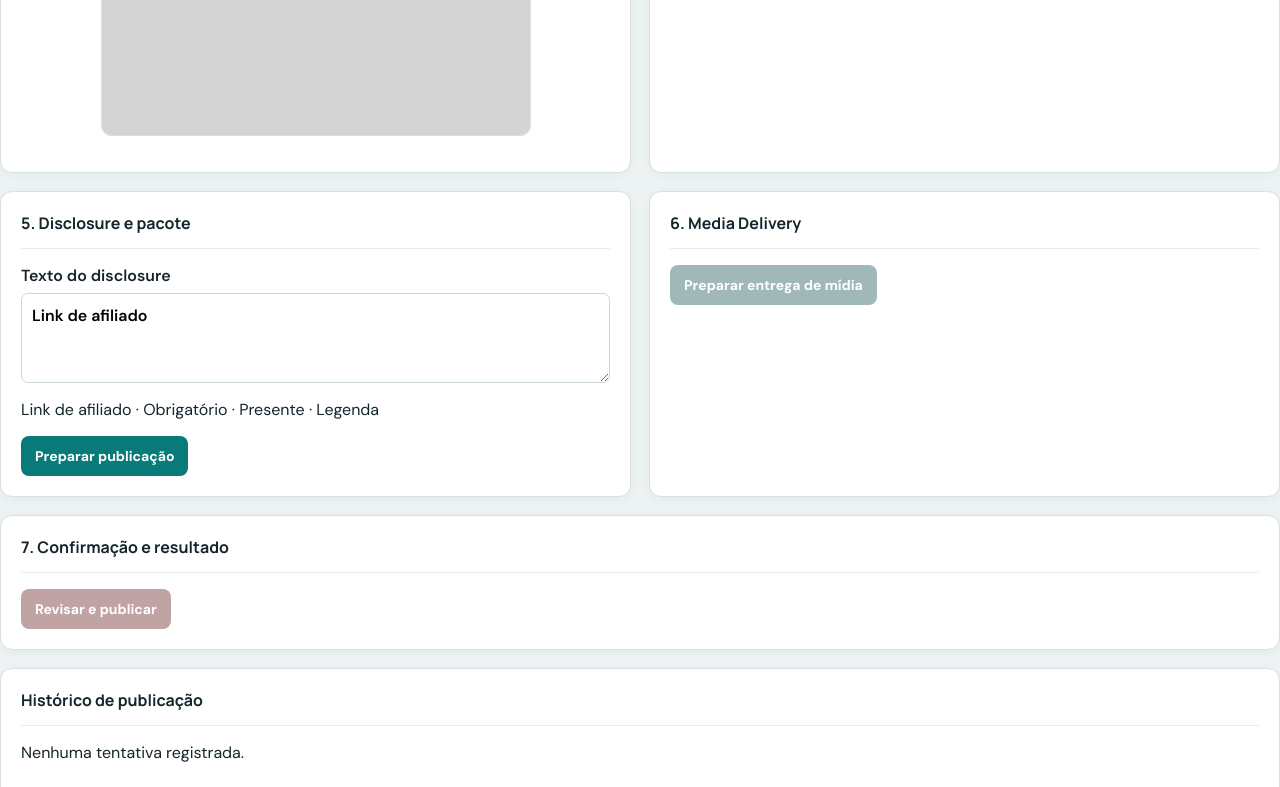
Test: delivery expirado bloqueia confirmação e não exibe URL assinada como texto
(page scrolled)
Step 1. Click the button "Preparar publicação" → (105, 456), box 21,436 -> 188,476
(page scrolled)
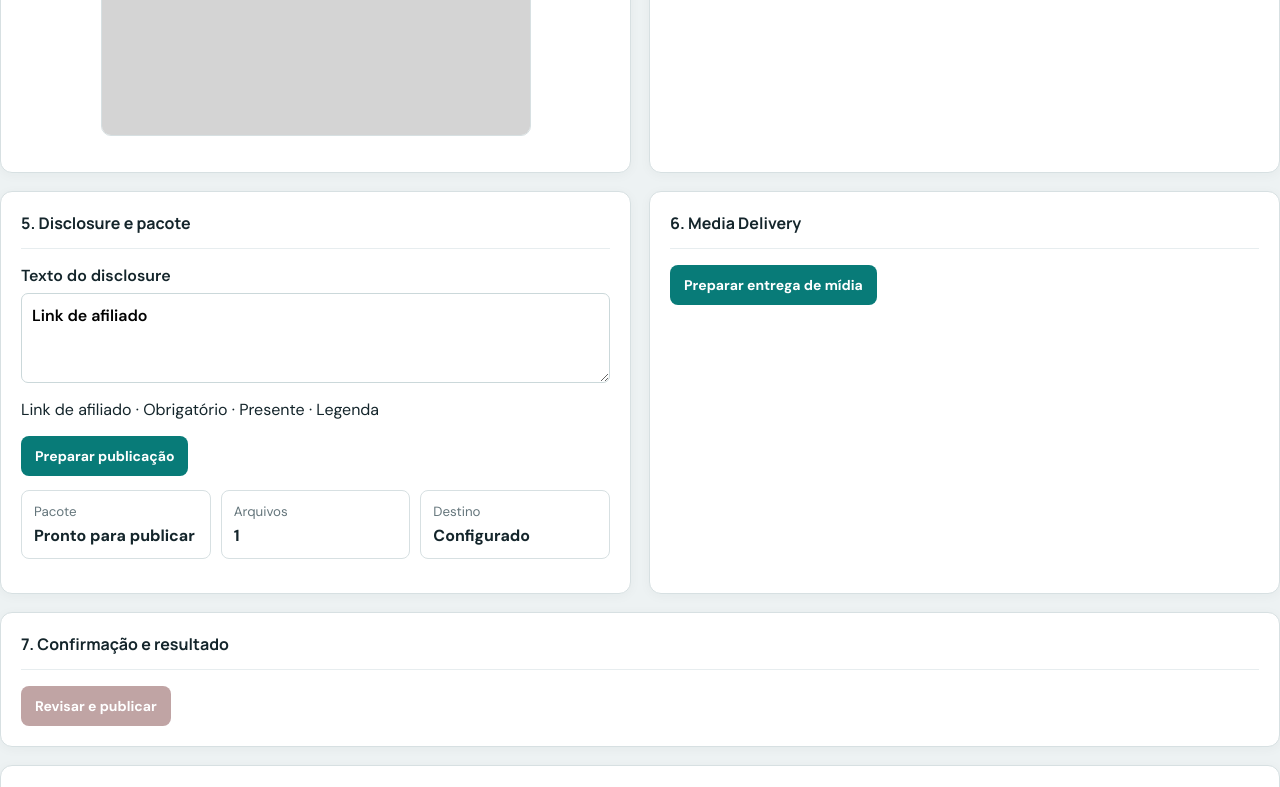
Step 2. Click the button "Preparar entrega de mídia" → (773, 285), box 670,265 -> 877,305
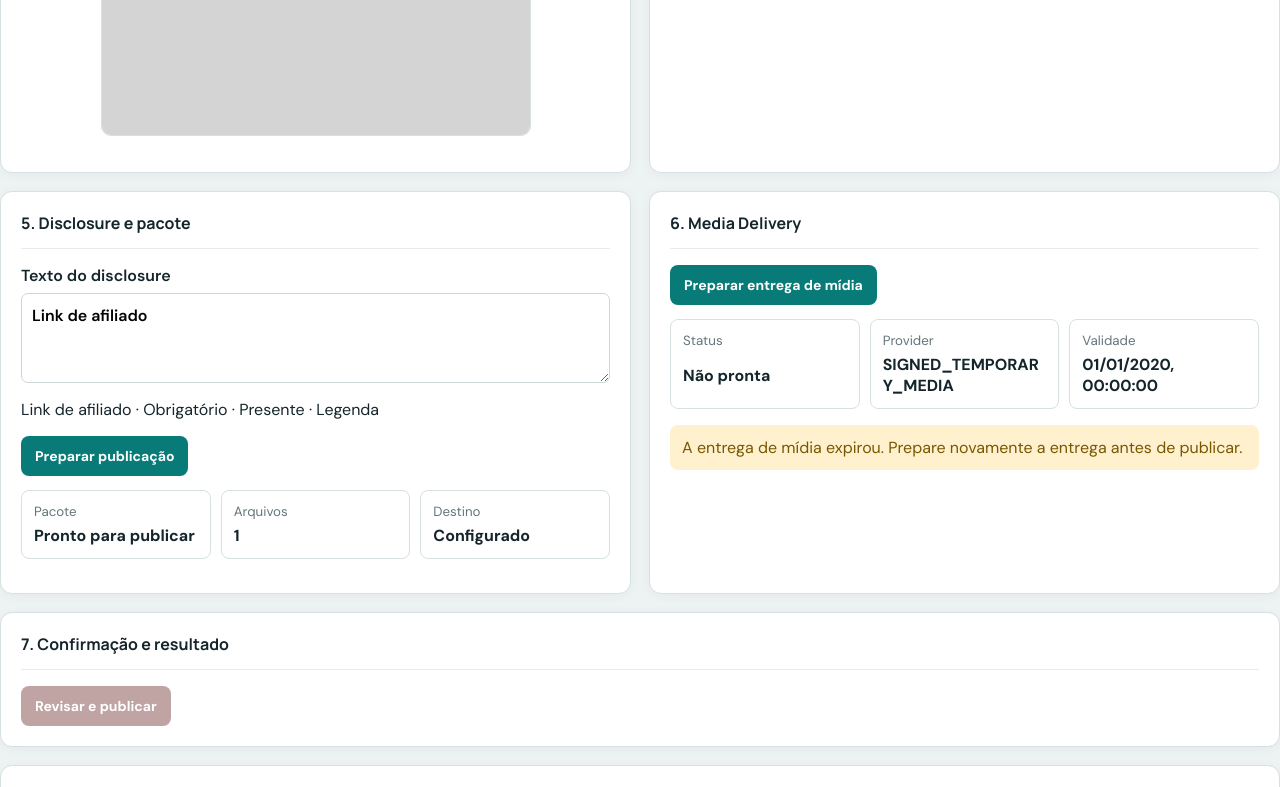
Expected: the button "Revisar e publicar" is disabled, 21,686 -> 171,726
Now the text "A entrega de mídia expirou. Prepare novamente a entrega antes de publicar." is shown, box 670,425 -> 1259,470
